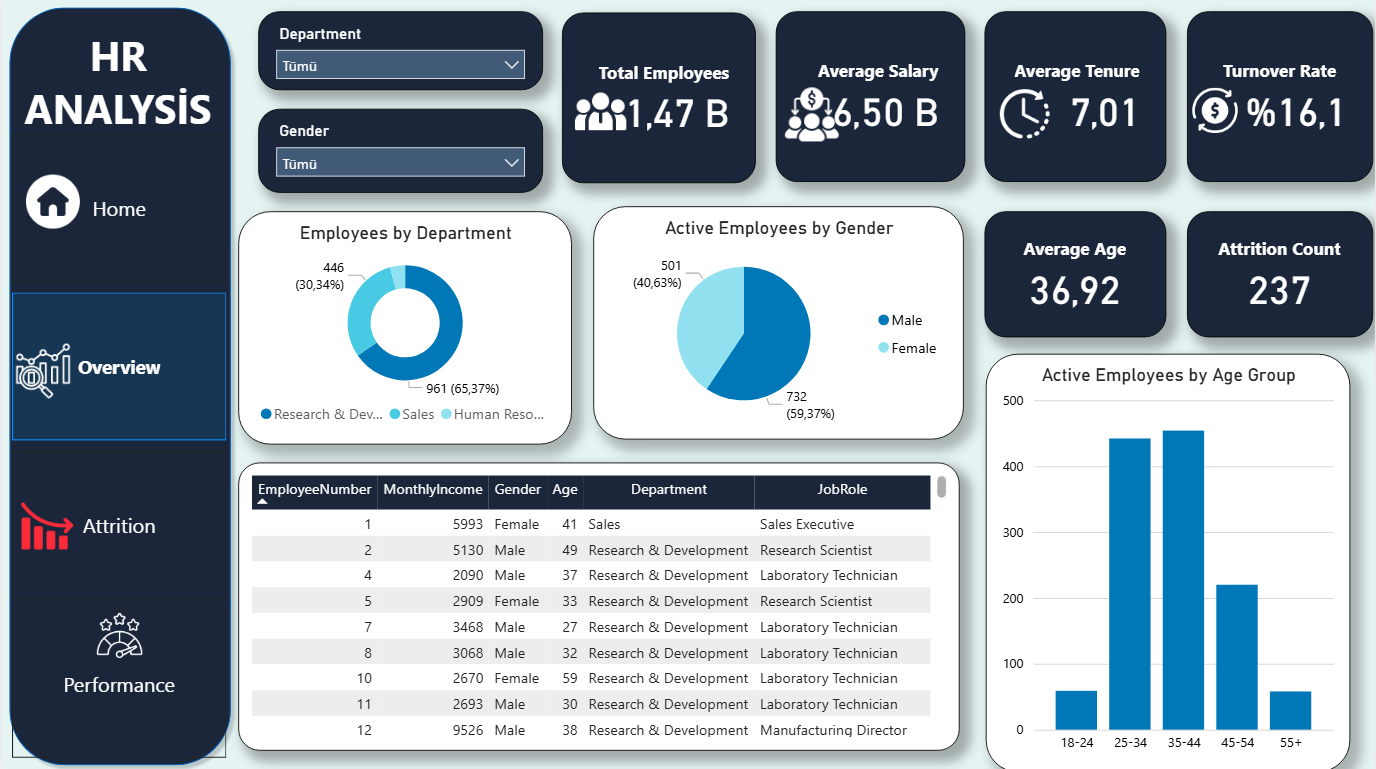

The page's visual inventory and layout, read from the dashboard file:
{"tool":"powerbi","page":{"name":"Overview","canvas":[1280,720],"ordinal":1},"visuals":[{"type":"cardVisual","fields":{"Data":["CountNonNull(HR-Employee-Attrition.EmployeeCount)"]},"box":[523,11.2,180.8,158.9],"z":0,"group":"g1"},{"type":"donutChart","title":"Employees by Department","fields":{"Category":["HR-Employee-Attrition.Department"],"Y":["CountNonNull(HR-Employee-Attrition.EmployeeCount)"]},"box":[220.5,196.8,311,217.8],"z":0},{"type":"cardVisual","fields":{"Data":["HR-Employee-Attrition.Ayrılan Sayısı"]},"box":[1105.5,197.3,174,117.8],"z":1000},{"type":"pieChart","title":"Active Employees by Gender","fields":{"Category":["HR-Employee-Attrition.Gender"],"Y":["CountNonNull(HR-Employee-Attrition.Aktif Çalışan)"]},"box":[551.1,191.8,345.2,217.8],"z":2000},{"type":"clusteredColumnChart","title":"Active Employees by Age Group","fields":{"Category":["HR-Employee-Attrition.Yas Grubu"],"Y":["CountNonNull(HR-Employee-Attrition.Aktif Çalışan)"]},"box":[917.8,330.1,339.7,390.4],"z":3000},{"type":"cardVisual","fields":{"Data":["HR-Employee-Attrition.Turnover Oranı"]},"box":[1105.5,11,174,158.9],"z":4000,"group":"g4"},{"type":"cardVisual","fields":{"Data":["Avg(HR-Employee-Attrition.Age)"]},"box":[916,197.3,169.9,117.8],"z":4000},{"type":"shape","box":[0,0,220.4,720.7],"z":5000},{"type":"pageNavigator","box":[9.6,124.9,200.3,584.6],"z":6000},{"type":"image","box":[11.2,457.5,61.2,67.5],"z":7000},{"type":"slicer","fields":{"Values":["HR-Employee-Attrition.Department"]},"box":[238.8,11,265.8,74],"z":8000},{"type":"slicer","fields":{"Values":["HR-Employee-Attrition.Gender"]},"box":[238.8,101.8,265.8,78.1],"z":9000},{"type":"tableEx","fields":{"Values":["HR-Employee-Attrition.EmployeeNumber","HR-Employee-Attrition.MonthlyIncome","HR-Employee-Attrition.Gender","HR-Employee-Attrition.Age","HR-Employee-Attrition.Department","HR-Employee-Attrition.JobRole"]},"box":[220.5,431.5,672.6,268.5],"z":10000},{"type":"image","box":[80,566.2,58.8,52.5],"z":11000},{"type":"image","box":[5,315,67.5,62.5],"z":12000},{"type":"cardVisual","fields":{"Data":["Avg(HR-Employee-Attrition.YearsAtCompany)"]},"box":[917.2,11,169.9,158.9],"z":13000,"group":"g3"},{"type":"image","box":[17.5,148.8,60,77.5],"z":13000},{"type":"cardVisual","fields":{"Data":["Avg(HR-Employee-Attrition.MonthlyIncome)"]},"box":[722.2,11,176.7,158.9],"z":14000,"group":"g5"},{"type":"group","id":"g1","title":"Group 1","box":[522.5,11.2,181.2,158.8],"z":14000},{"type":"group","id":"g2","title":"Group 2","box":[722.2,11,176.7,158.9],"z":15000},{"type":"group","id":"g3","title":"Group 4","box":[906.2,11,180.9,158.9],"z":16000},{"type":"group","id":"g4","title":"Group 5","box":[1087.5,11,192,158.9],"z":17000},{"type":"image","box":[522.5,72.7,72.5,61.2],"z":17004,"group":"g1"},{"type":"image","box":[722.5,72.5,67.5,68.8],"z":17005,"group":"g5"},{"type":"group","id":"g5","title":"Group 3","box":[722.2,11,176.7,158.9],"z":17008,"group":"g2"},{"type":"image","box":[906.2,78.8,96.2,56.2],"z":17008,"group":"g3"},{"type":"image","box":[1087.5,77.5,87.5,52.5],"z":17010,"group":"g4"},{"type":"textbox","box":[5.3,21.2,204.8,146.5],"z":18000}]}

Visuals, with their boxes in screenshot pixels (x1, y1, x2, y2), scaled from the page's 1280x720 canvas onto the 1376x769 screenshot:
cardVisual - CountNonNull(HR-Employee-Attrition.EmployeeCount): {"left": 562, "top": 12, "right": 757, "bottom": 182}
"Employees by Department" donutChart: {"left": 237, "top": 210, "right": 571, "bottom": 443}
cardVisual - HR-Employee-Attrition.Ayrılan Sayısı: {"left": 1188, "top": 211, "right": 1375, "bottom": 337}
"Active Employees by Gender" pieChart: {"left": 592, "top": 205, "right": 964, "bottom": 437}
"Active Employees by Age Group" clusteredColumnChart: {"left": 987, "top": 353, "right": 1352, "bottom": 768}
cardVisual - HR-Employee-Attrition.Turnover Oranı: {"left": 1188, "top": 12, "right": 1375, "bottom": 181}
cardVisual - Avg(HR-Employee-Attrition.Age): {"left": 985, "top": 211, "right": 1167, "bottom": 337}
shape: {"left": 0, "top": 0, "right": 237, "bottom": 768}
pageNavigator: {"left": 10, "top": 133, "right": 226, "bottom": 758}
image: {"left": 12, "top": 489, "right": 78, "bottom": 561}
slicer - HR-Employee-Attrition.Department: {"left": 257, "top": 12, "right": 542, "bottom": 91}
slicer - HR-Employee-Attrition.Gender: {"left": 257, "top": 109, "right": 542, "bottom": 192}
tableEx - HR-Employee-Attrition.EmployeeNumber x HR-Employee-Attrition.MonthlyIncome: {"left": 237, "top": 461, "right": 960, "bottom": 748}
image: {"left": 86, "top": 605, "right": 149, "bottom": 661}
image: {"left": 5, "top": 336, "right": 78, "bottom": 403}
cardVisual - Avg(HR-Employee-Attrition.YearsAtCompany): {"left": 986, "top": 12, "right": 1169, "bottom": 181}
image: {"left": 19, "top": 159, "right": 83, "bottom": 242}
cardVisual - Avg(HR-Employee-Attrition.MonthlyIncome): {"left": 776, "top": 12, "right": 966, "bottom": 181}
"Group 1" group: {"left": 562, "top": 12, "right": 756, "bottom": 182}
"Group 2" group: {"left": 776, "top": 12, "right": 966, "bottom": 181}
"Group 4" group: {"left": 974, "top": 12, "right": 1169, "bottom": 181}
"Group 5" group: {"left": 1169, "top": 12, "right": 1375, "bottom": 181}
image: {"left": 562, "top": 78, "right": 640, "bottom": 143}
image: {"left": 777, "top": 77, "right": 849, "bottom": 151}
"Group 3" group: {"left": 776, "top": 12, "right": 966, "bottom": 181}
image: {"left": 974, "top": 84, "right": 1078, "bottom": 144}
image: {"left": 1169, "top": 83, "right": 1263, "bottom": 139}
textbox: {"left": 6, "top": 23, "right": 226, "bottom": 179}
